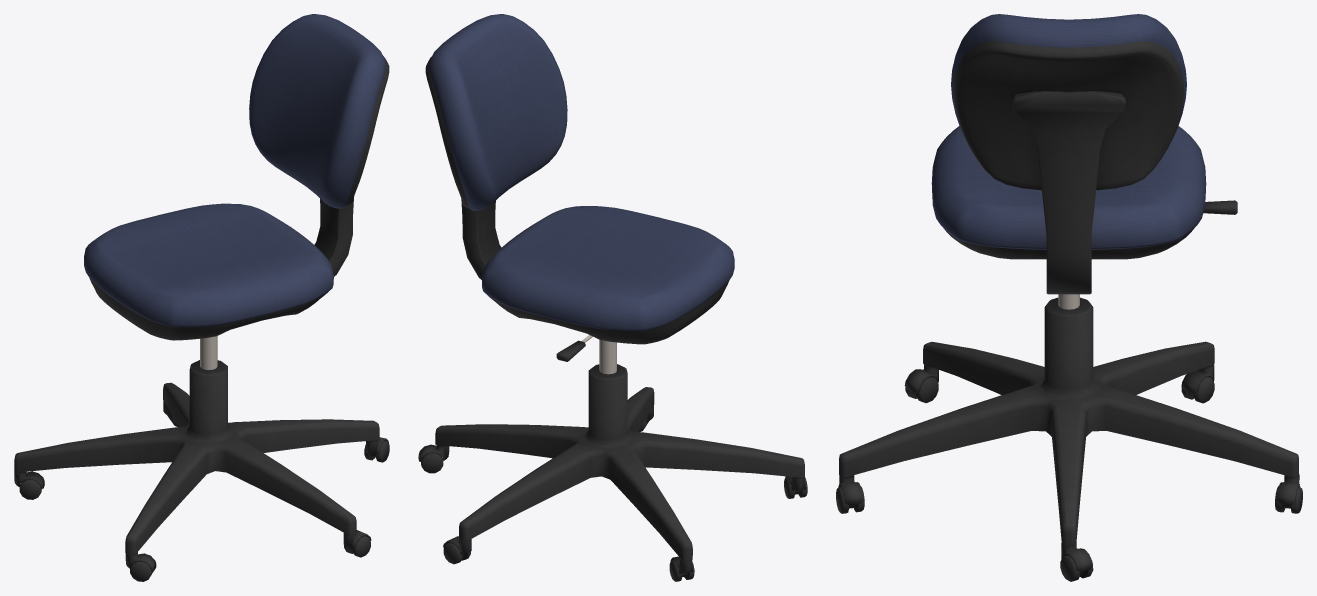
File: SM_Chair_Office_01_NoArmrests.fbx
The picture shows the model from 3 angles, left to right: view 1: azimuth 30°, elevation 25°; view 2: azimuth 150°, elevation 25°; view 3: azimuth 270°, elevation 25°; orthographic projection. The views are drawn at different scales.
Parts seen in each view (by area): view 1: SM_Chair_Office_01_NoArmrests_LOD0; view 2: SM_Chair_Office_01_NoArmrests_LOD0; view 3: SM_Chair_Office_01_NoArmrests_LOD0.
Part boxes in pixels (left/top/right/bottom): SM_Chair_Office_01_NoArmrests_LOD0: left=14, top=14, right=389, bottom=581; SM_Chair_Office_01_NoArmrests_LOD0: left=418, top=14, right=807, bottom=581; SM_Chair_Office_01_NoArmrests_LOD0: left=836, top=14, right=1302, bottom=581.
Size of the model in its own units: 67.98 by 69.04 by 88.12.
